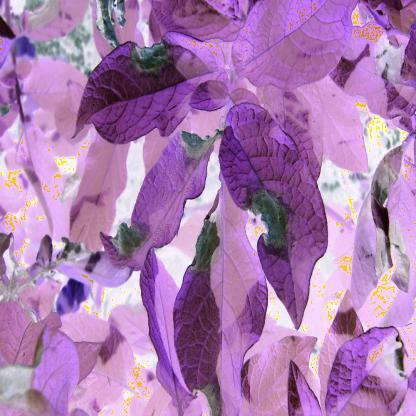Potato leaf: (218, 95, 328, 338), (95, 116, 226, 283), (177, 186, 266, 416), (68, 41, 223, 146)
